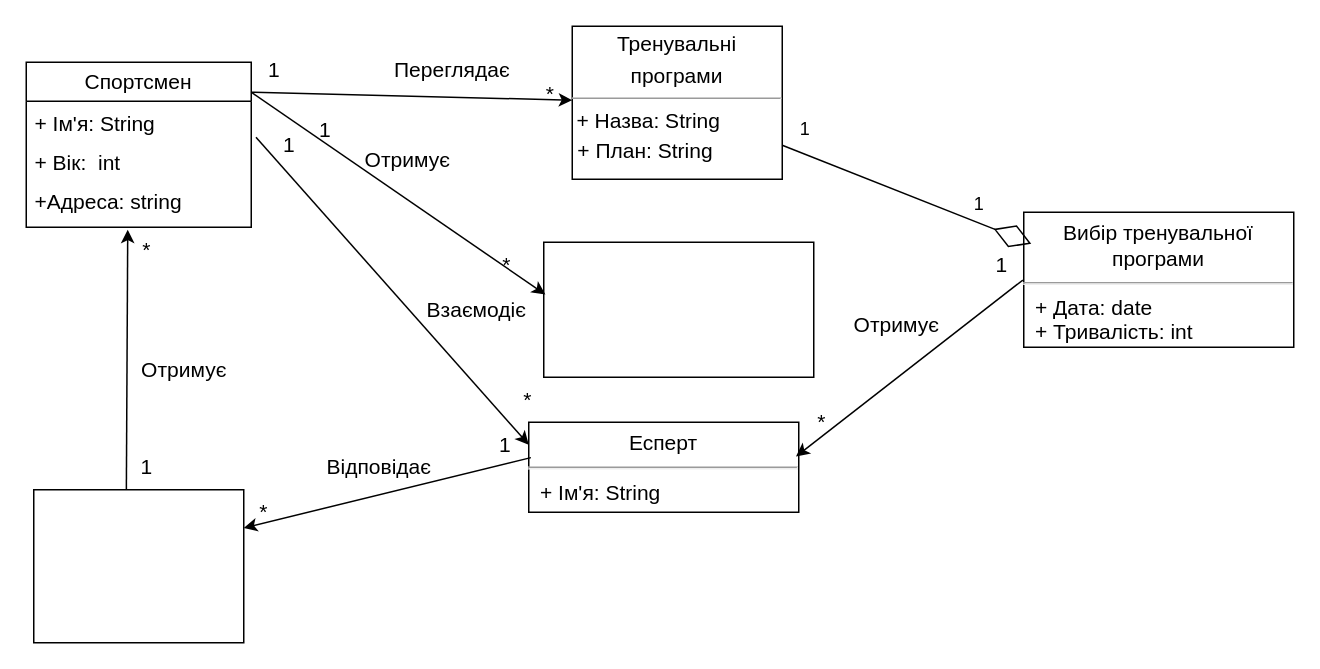
The diagram is 1320 pixels wide and 669 high, and some of its shapes have lost their labels. Each missing label, with the centre of its shape:
Відповідь на Online-повідомлення + Дата: date + Текст: String: the point at 138,565
Сповіщення про тренувальну програму + Дата: date + Статус: String: the point at 678,309
